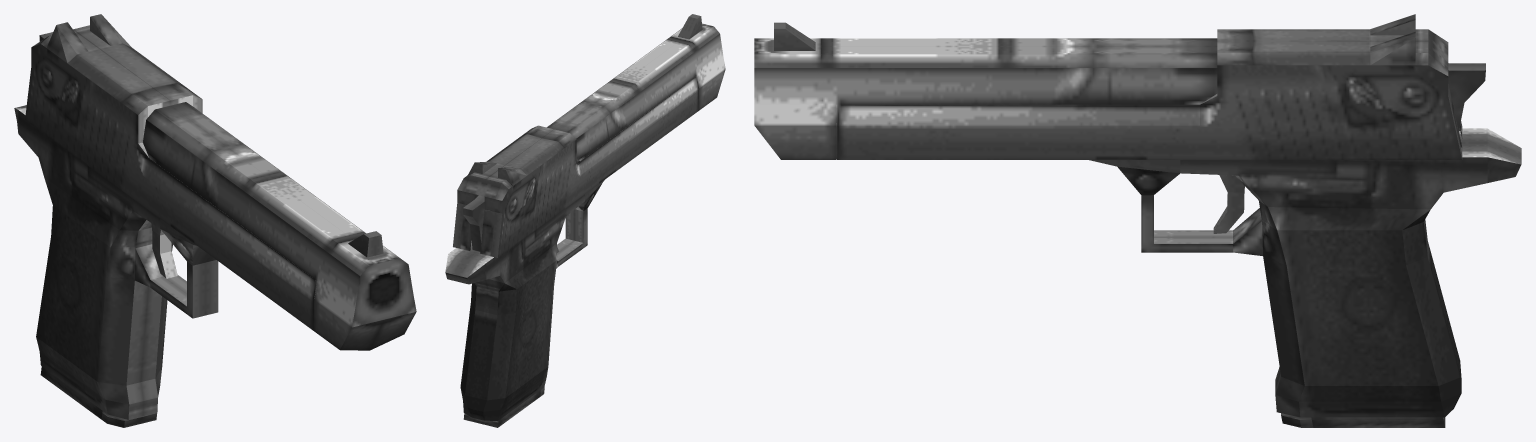
The model's file is pistol1.fbx.
The picture shows the model from 3 angles, left to right: view 1: azimuth 30°, elevation 25°; view 2: azimuth 150°, elevation 25°; view 3: azimuth 270°, elevation 25°; orthographic projection. The views are drawn at different scales.
Parts seen in each view (by area): view 1: Cylinder_Material_0; view 2: Cylinder_Material_0; view 3: Cylinder_Material_0.
Boxes of the visible parts, x1=… form: Cylinder_Material_0: x1=14, y1=14, x2=416, y2=427; Cylinder_Material_0: x1=445, y1=14, x2=725, y2=427; Cylinder_Material_0: x1=754, y1=14, x2=1521, y2=427.
Size of the model in its own units: 49.62 by 264 by 471.
1 material, 1 textured.
